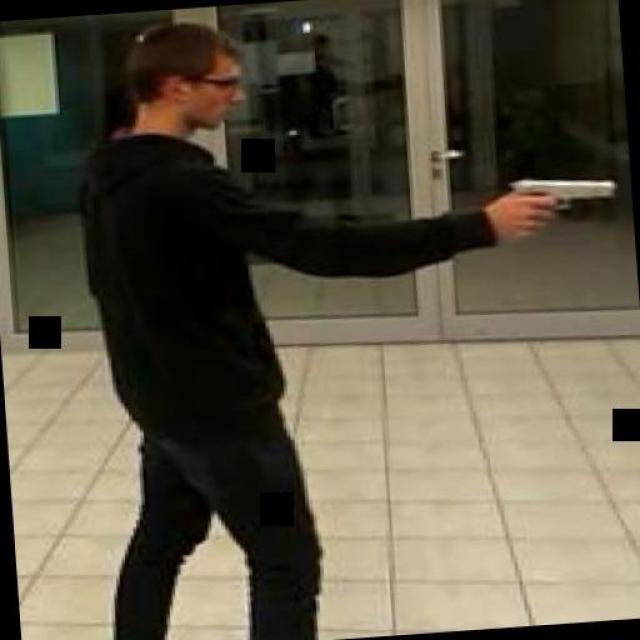gun: (505, 169, 617, 239)
